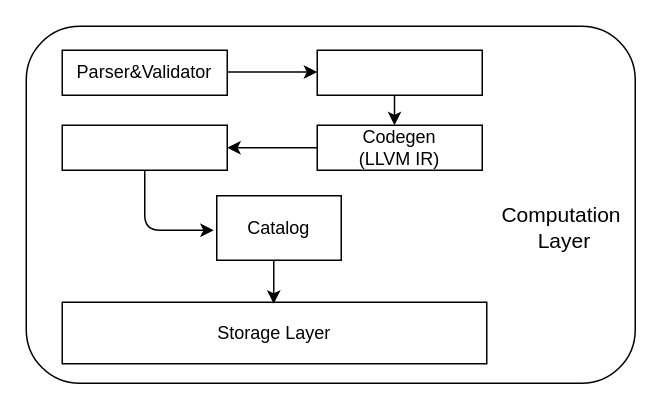
This 663x410 diagram has some shape labels left out. The box of each missing label's shape, as (x1, y1, x2, y2) in pixels:
Execute Plan & Runner: (61, 124, 227, 170)
Planner&Optimizer: (316, 49, 482, 95)
